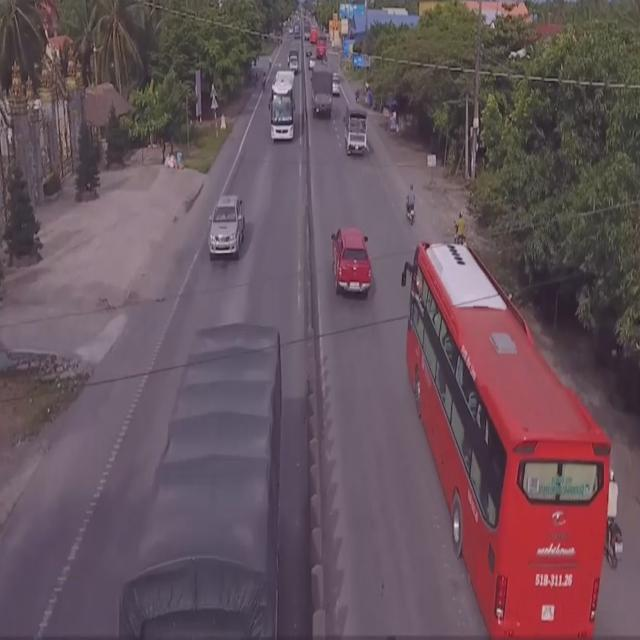bus: (403, 240, 612, 636), (270, 67, 296, 140)
car: (331, 222, 373, 297), (208, 192, 246, 263)
motorbike: (449, 208, 468, 247), (407, 188, 422, 234)
truck: (120, 321, 282, 640), (309, 62, 334, 122), (341, 106, 366, 155)
